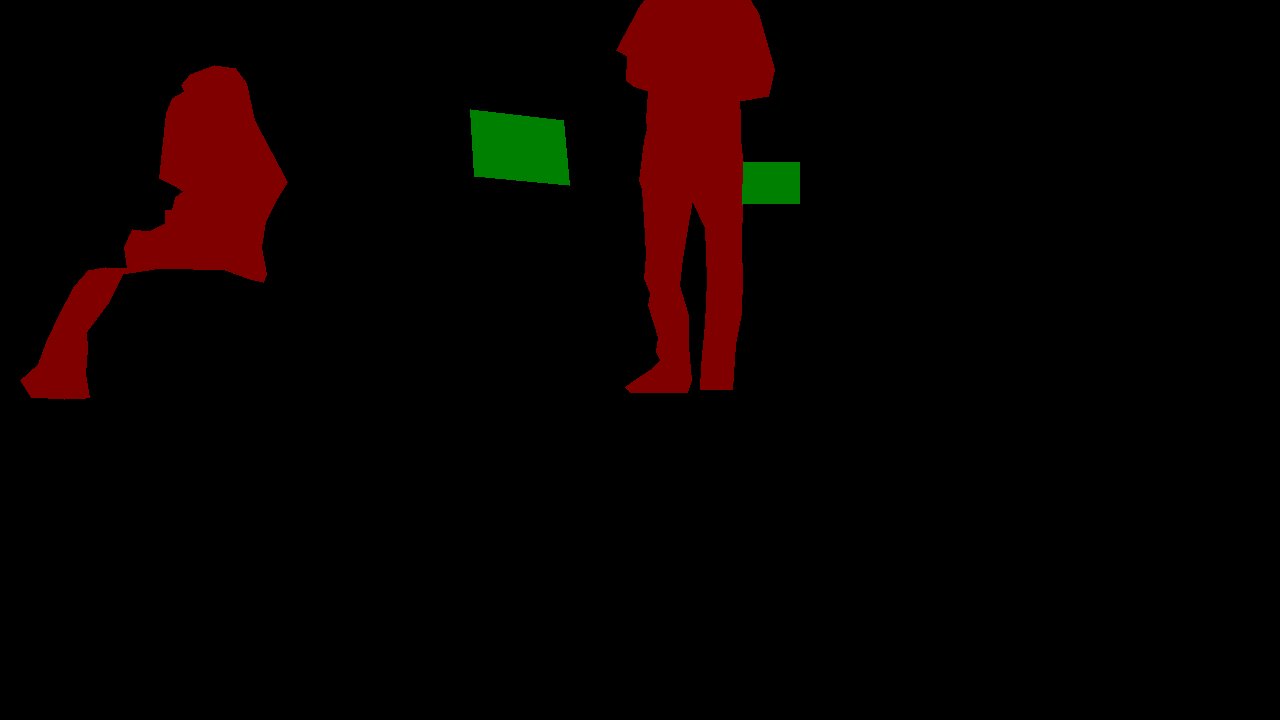person: (20, 65, 287, 399), (616, 0, 774, 392)
tvmonitor: (470, 109, 569, 185), (742, 162, 799, 204)
